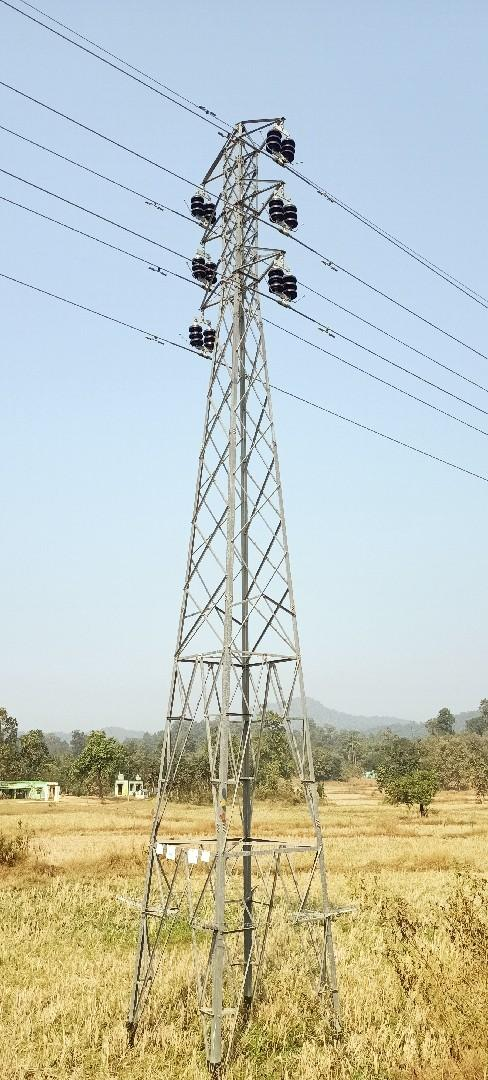GSM Antenna: (103, 116, 370, 1011)
